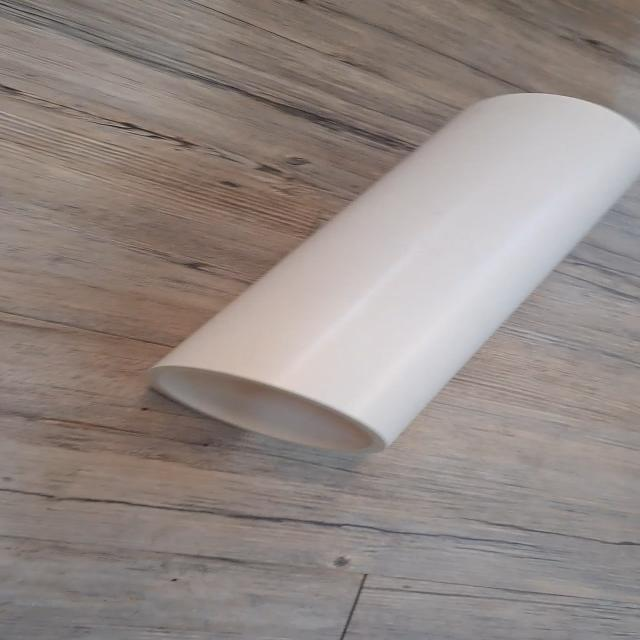CORAL: (113, 68, 640, 466)
